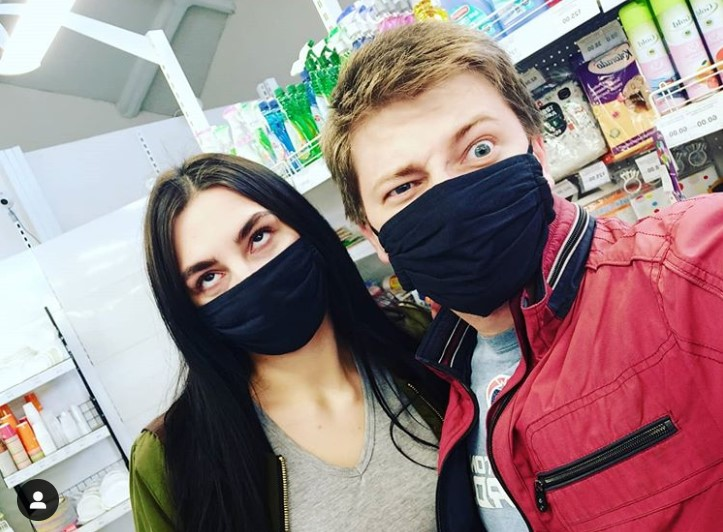face_with_mask: (327, 31, 555, 318), (150, 156, 332, 360)
